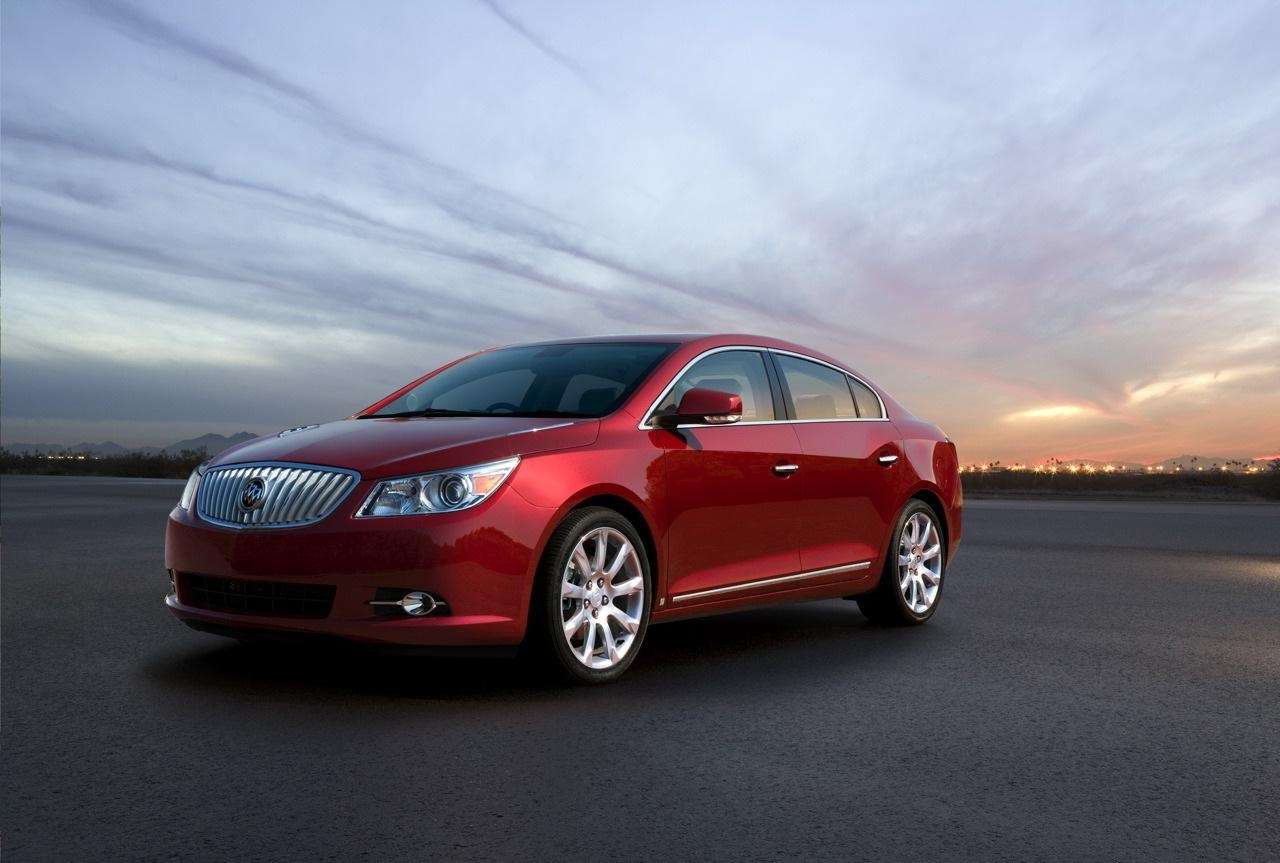car: (123, 303, 1024, 724)
